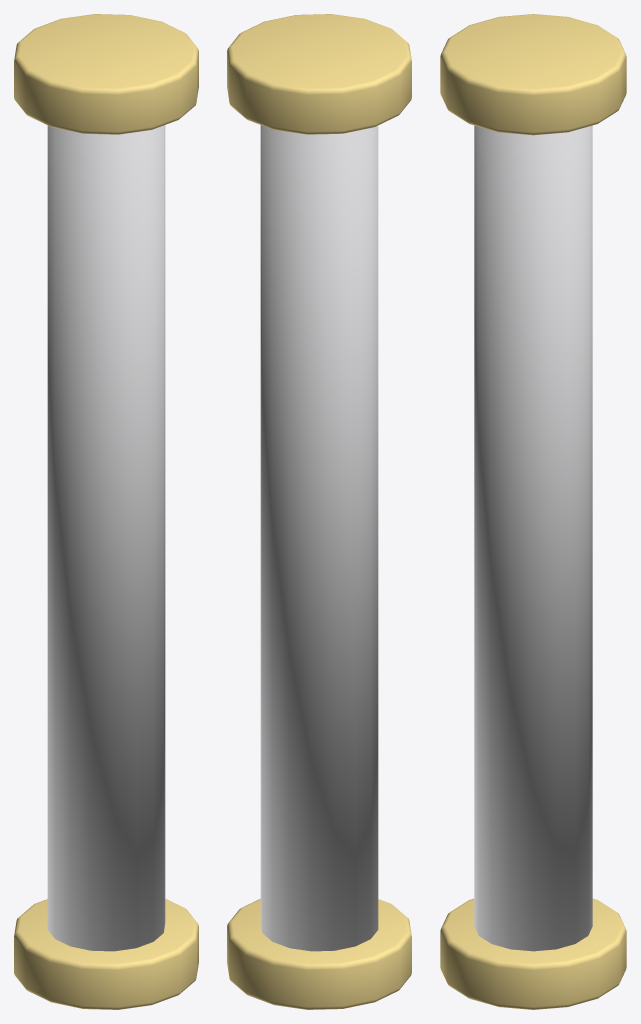
File: fx_column.glb
3 renders of one model, left to right at view 1: azimuth 30°, elevation 25°; view 2: azimuth 150°, elevation 25°; view 3: azimuth 270°, elevation 25°, orthographic.
Visible parts, largest first — view 1: fx_column; view 2: fx_column; view 3: fx_column.
Boxes of the visible parts, x1=… form: fx_column: x1=14, y1=14, x2=198, y2=1009; fx_column: x1=227, y1=14, x2=411, y2=1009; fx_column: x1=440, y1=14, x2=626, y2=1009.
Size of the model in its own units: 1.1 by 6 by 1.1.
